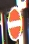No entry: (6, 6, 24, 39)
